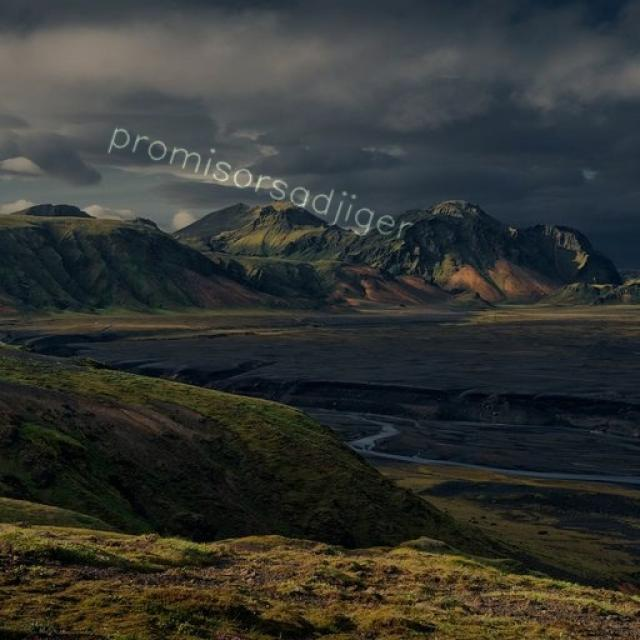watermark: (97, 115, 435, 248)
